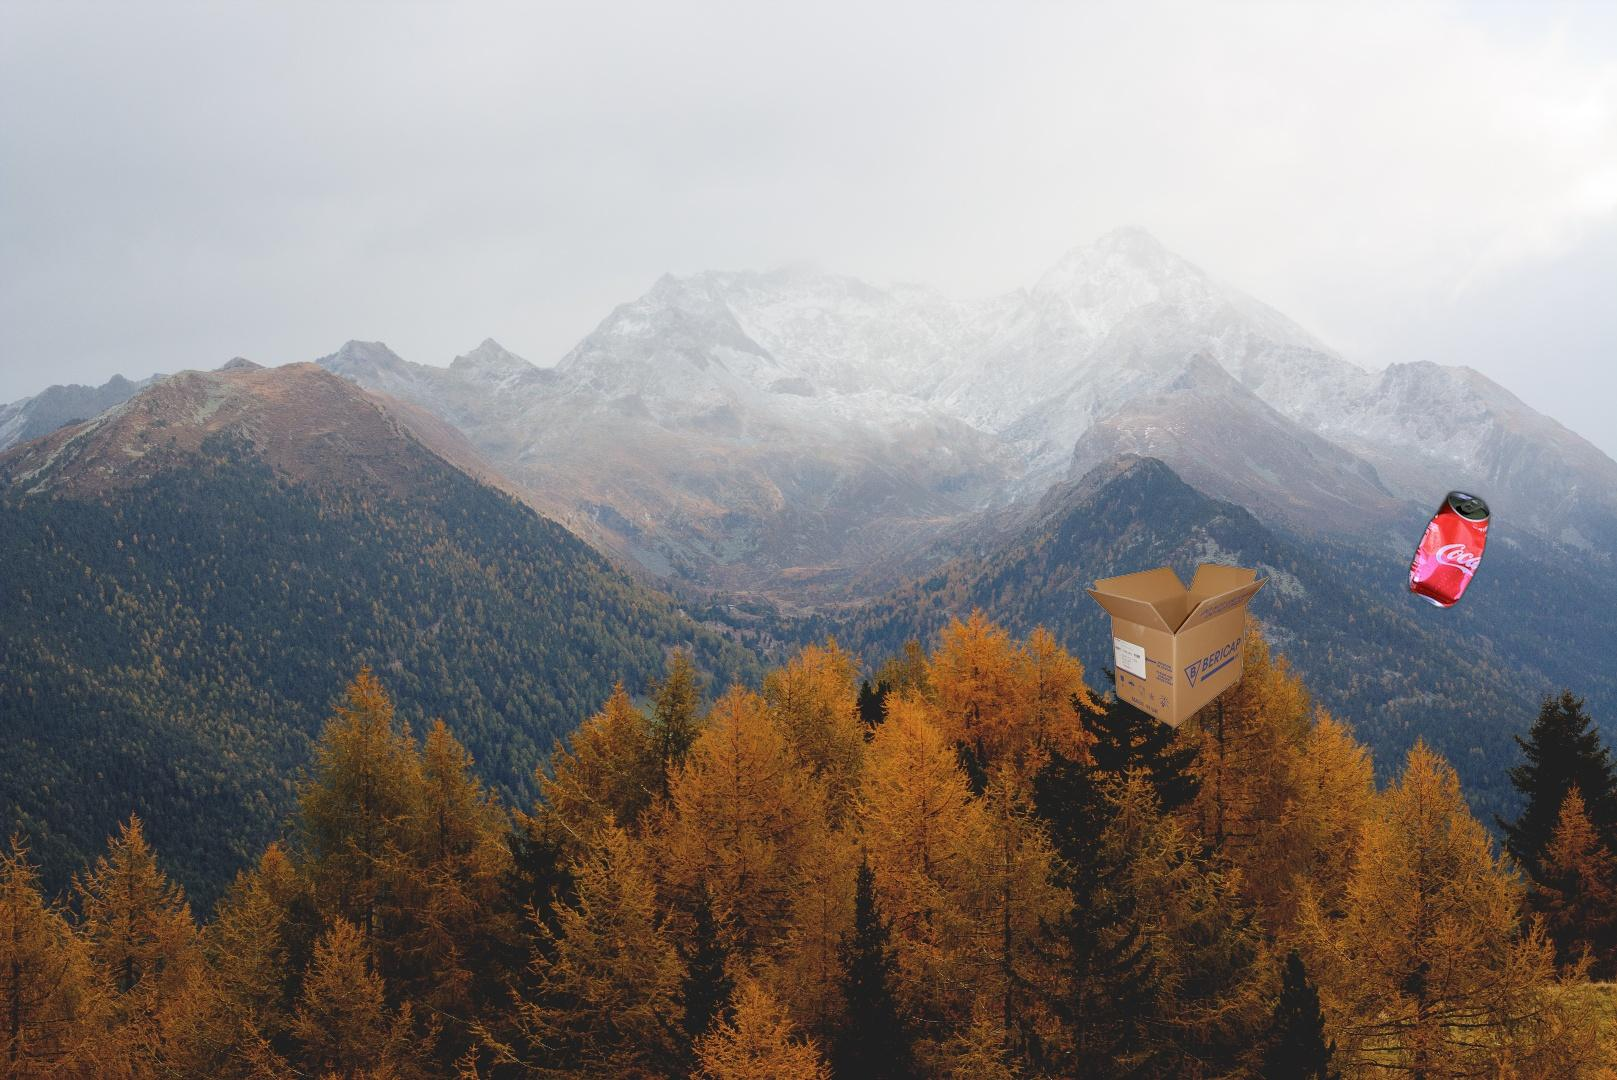metal-cans: (1343, 485, 1495, 769)
trashbox-cardboard: (1084, 560, 1272, 730)
